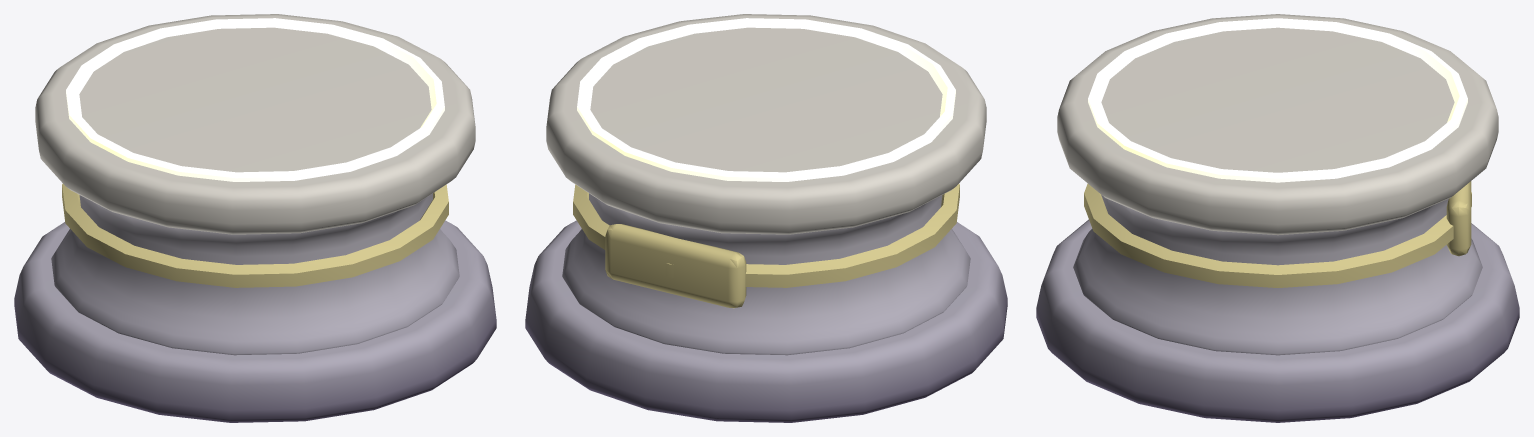
Rendered from statuePedestal.glb.
3 renders of one model, left to right at view 1: azimuth 30°, elevation 25°; view 2: azimuth 150°, elevation 25°; view 3: azimuth 270°, elevation 25°, orthographic.
Visible parts, largest first — view 1: Body, Glow_FFE066; view 2: Body, Glow_FFE066; view 3: Body, Glow_FFE066.
Boxes of the visible parts, <box> form: Body: <box>14,14,496,422</box>; Glow_FFE066: <box>66,18,444,181</box>; Body: <box>525,14,1007,422</box>; Glow_FFE066: <box>577,18,955,181</box>; Body: <box>1036,14,1519,422</box>; Glow_FFE066: <box>1088,18,1467,182</box>.
Size of the model in its own units: 7.88 by 4.11 by 7.88.
